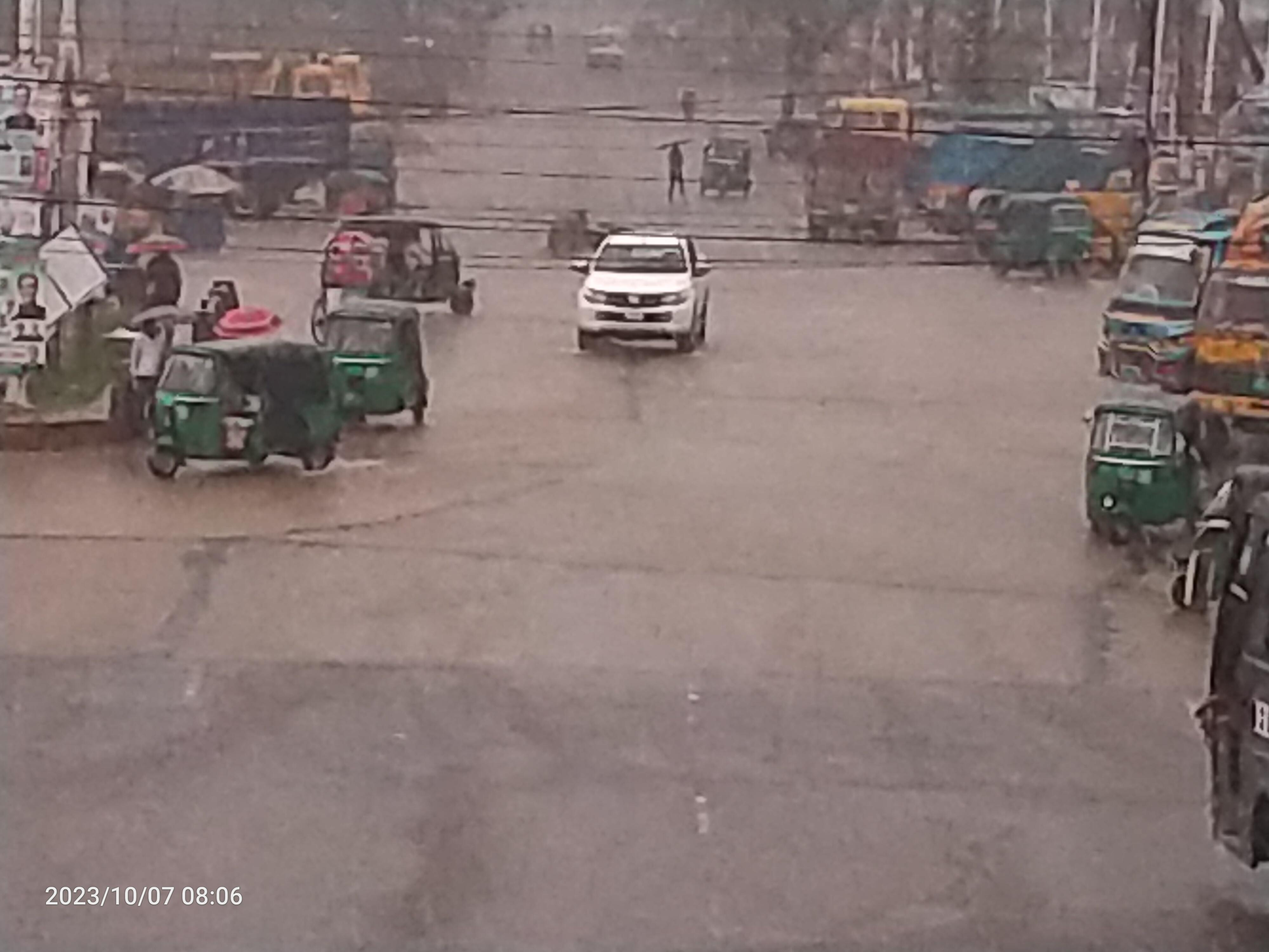Car: (541, 195, 746, 378)
Truck: (27, 27, 355, 217), (784, 110, 920, 261)
